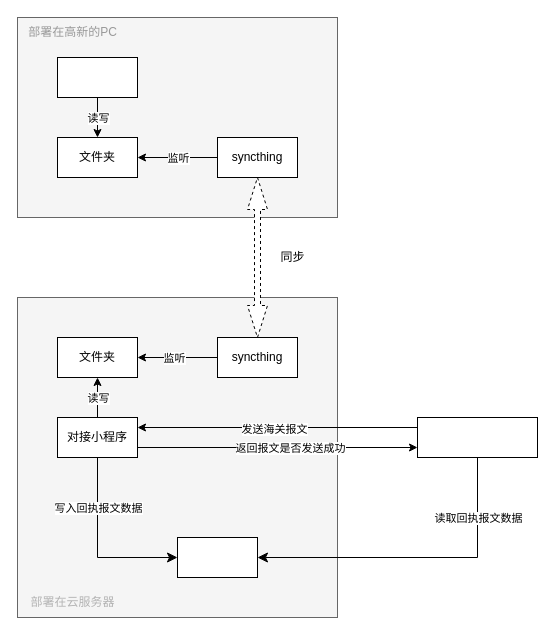
Image size: 555x635. Some labels were removed from this diagram. The shapes that lost their labels are listed below. From the top down, each one's centre as x and y in pixels, then its label:
point (97, 77): 海关客户端
point (477, 437): 想申报的客户端
point (217, 557): 消息队列
